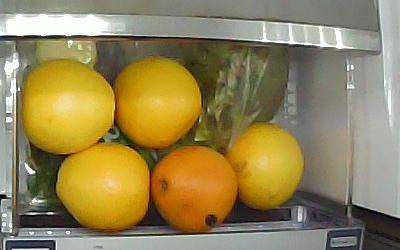grapefruit: (21, 57, 115, 154), (54, 141, 150, 232), (111, 55, 202, 148), (149, 143, 238, 232), (223, 119, 304, 209)
